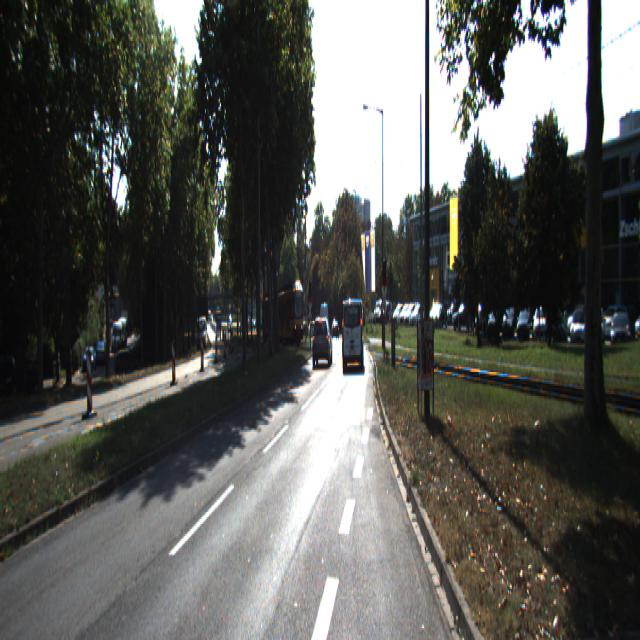Car: (267, 285, 305, 346), (342, 299, 362, 376), (311, 317, 333, 368)
